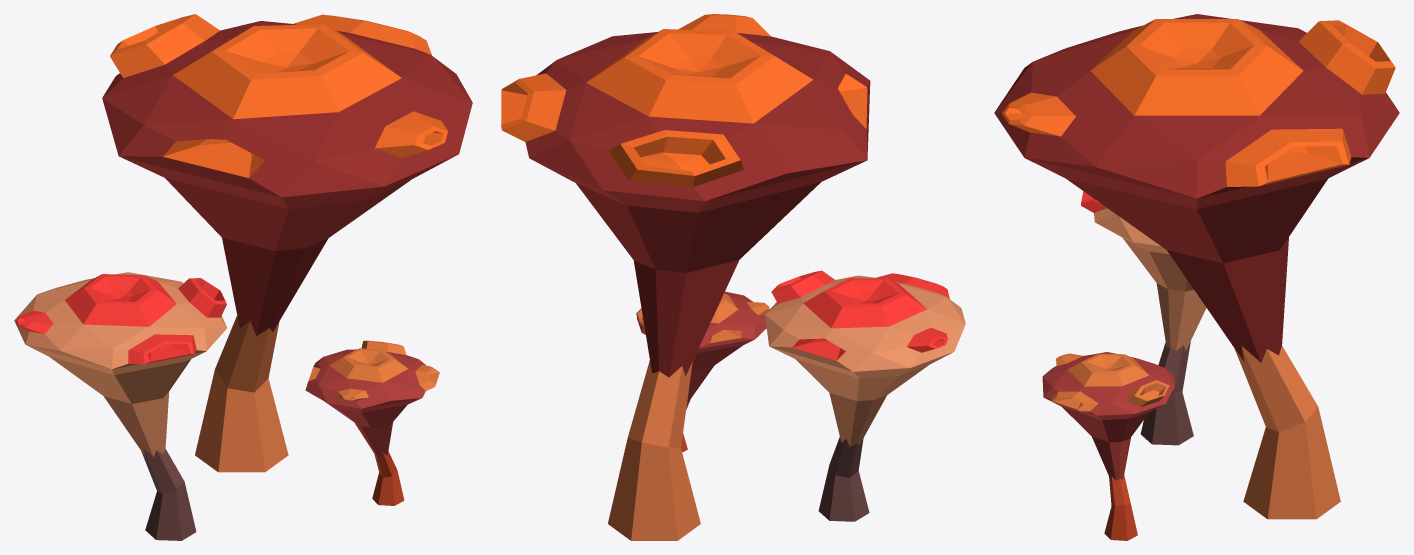
The model's file is RAS_Plant05.fbx.
3 renders of one model, left to right at view 1: azimuth 30°, elevation 25°; view 2: azimuth 150°, elevation 25°; view 3: azimuth 270°, elevation 25°, orthographic. The views are drawn at different scales.
Visible parts, largest first — view 1: RAS_Plant05; view 2: RAS_Plant05; view 3: RAS_Plant05.
Boxes of the visible parts, bbox=[...] form: RAS_Plant05: bbox=[14, 14, 472, 540]; RAS_Plant05: bbox=[501, 14, 965, 540]; RAS_Plant05: bbox=[994, 14, 1399, 540].
Bounding box in the file's own units: 78.11 × 76.49 × 61.62.
1 material, 1 textured.
